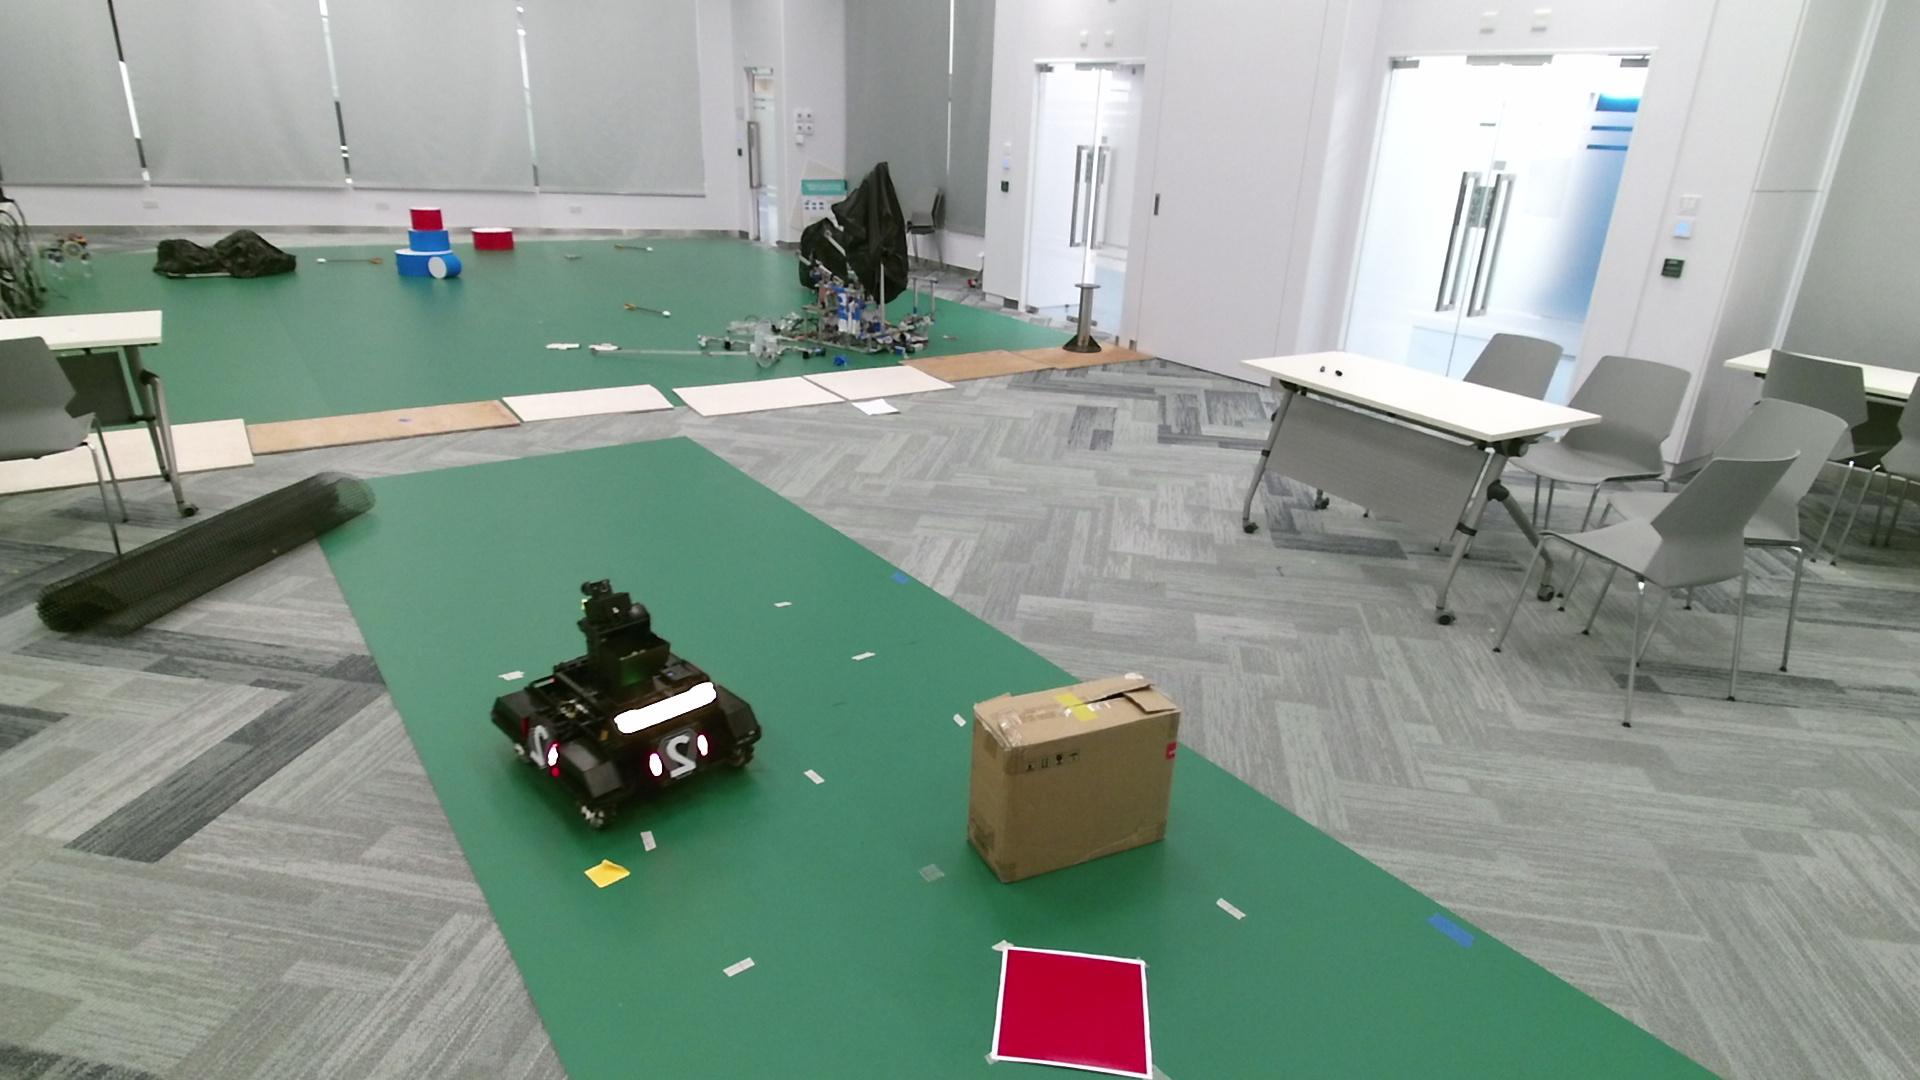robot: (491, 578, 762, 832)
